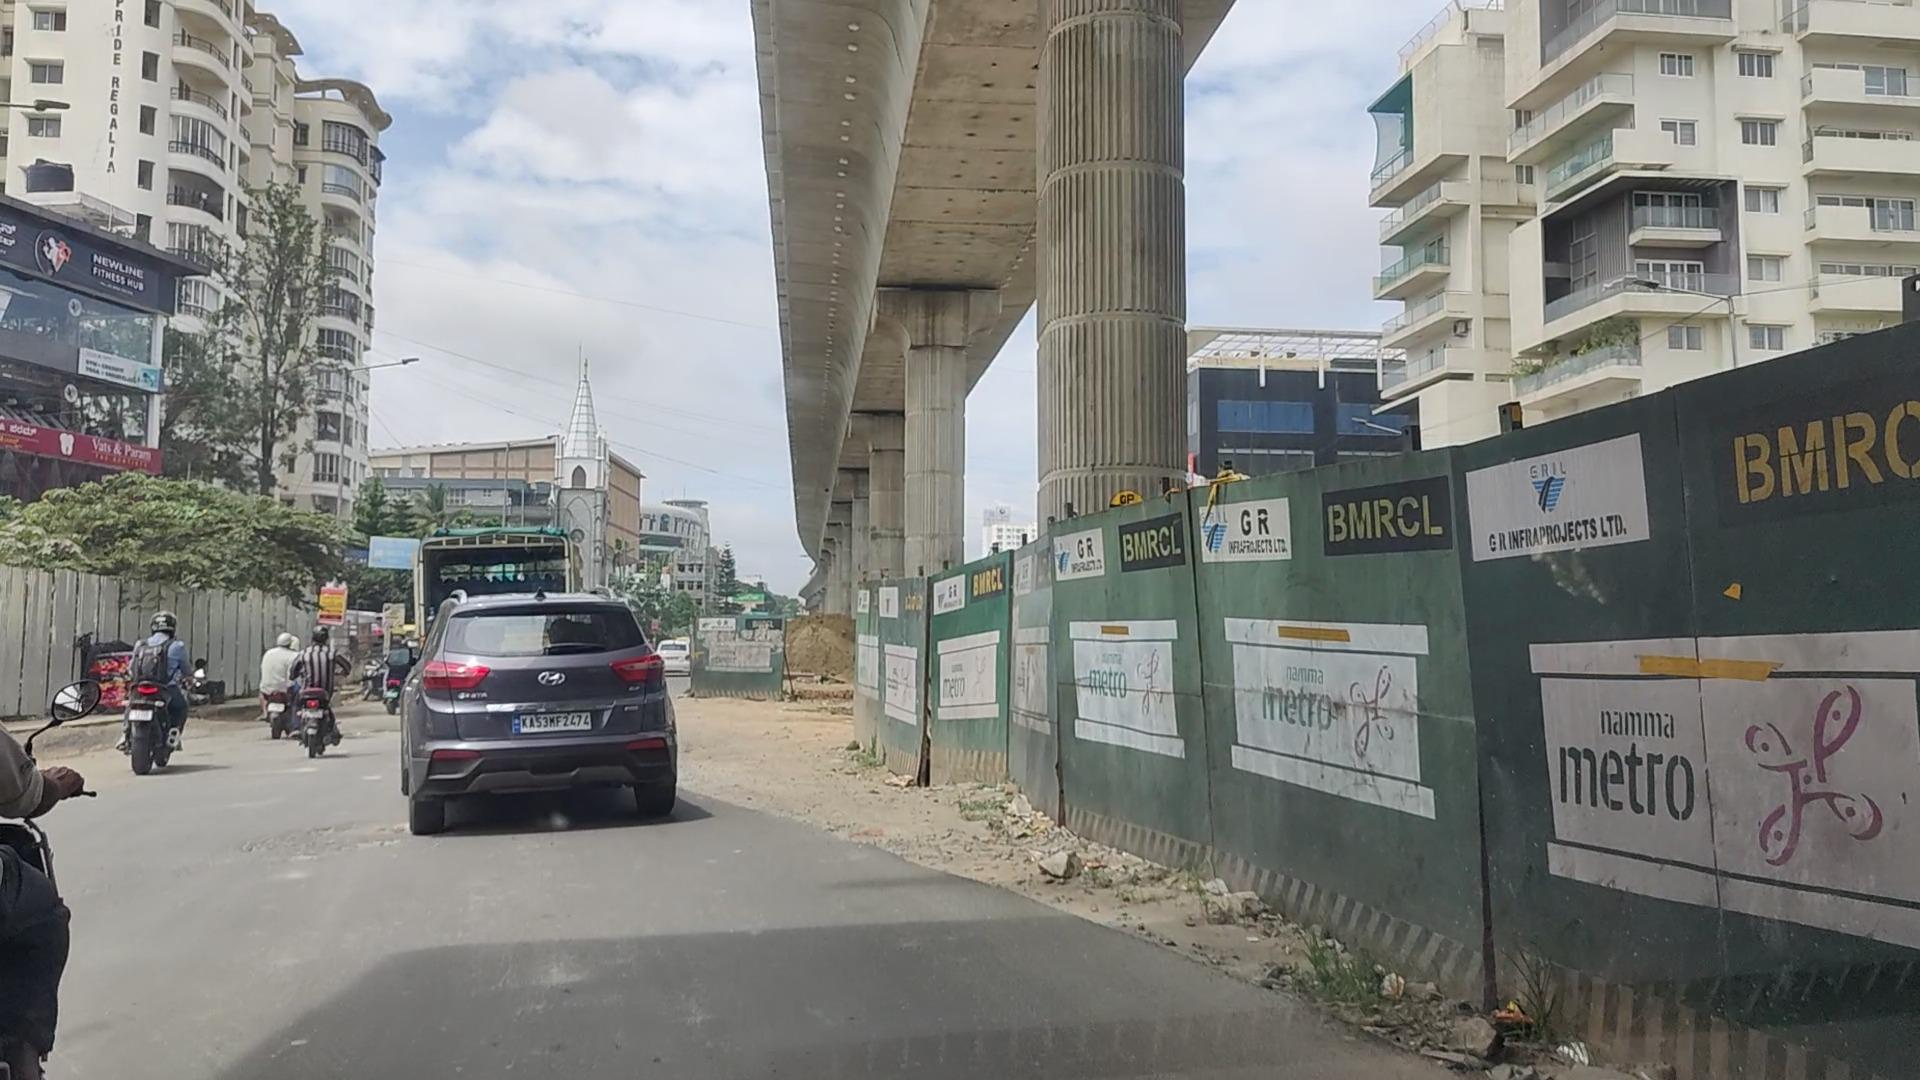LMV: (418, 592, 676, 831), (129, 617, 208, 775)
RoadDamages: (852, 818, 1040, 942), (732, 771, 828, 857), (262, 819, 407, 868)
